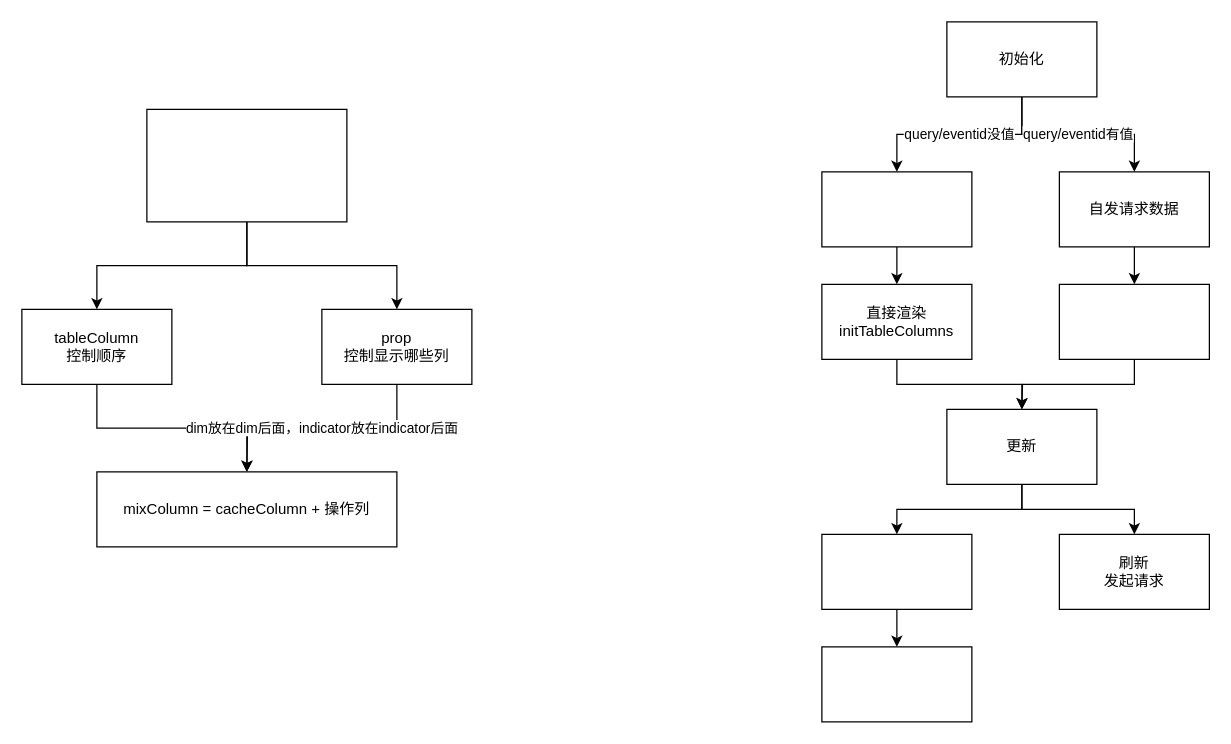
The diagram is 1231 pixels wide and 744 high, and some of its shapes have lost their labels. Here are the shapes that lost their labels. From the top down, the box of each, then its label:
(146, 108, 347, 222): prop:原始列 tableColumn实例列 cacheColumn缓存列 mixColumn混合列
(821, 171, 972, 247): 外层传入数据
(1058, 283, 1209, 359): 调用loadTableData
(821, 533, 972, 609): 监听query变化 发起请求
